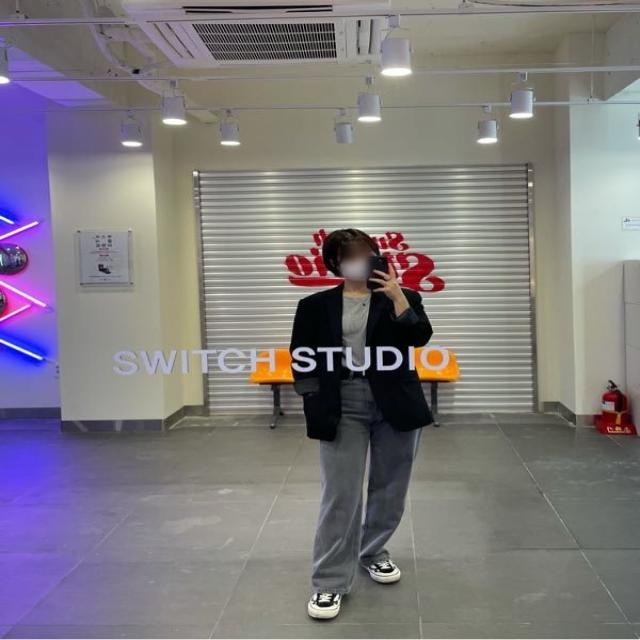blazer: (290, 280, 441, 441)
denimpants: (310, 368, 409, 590)
